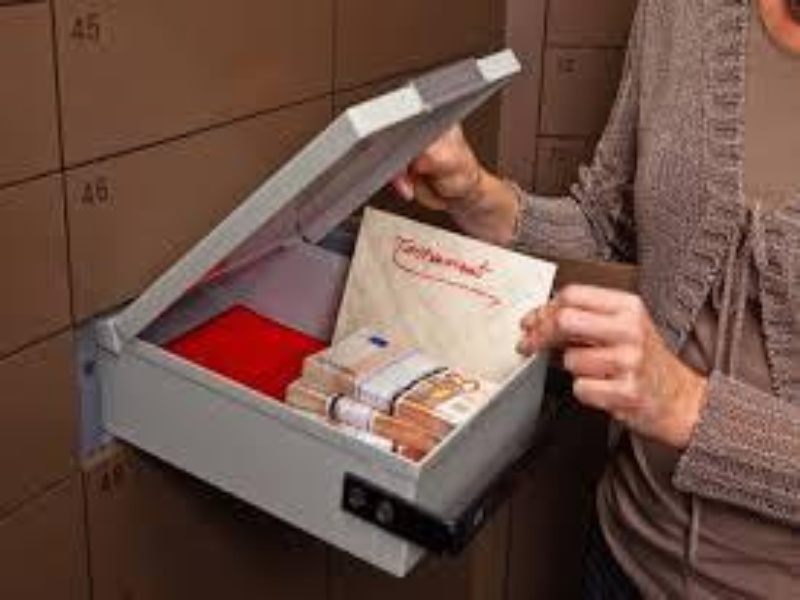cash: (286, 329, 500, 461)
person: (395, 1, 800, 600)
